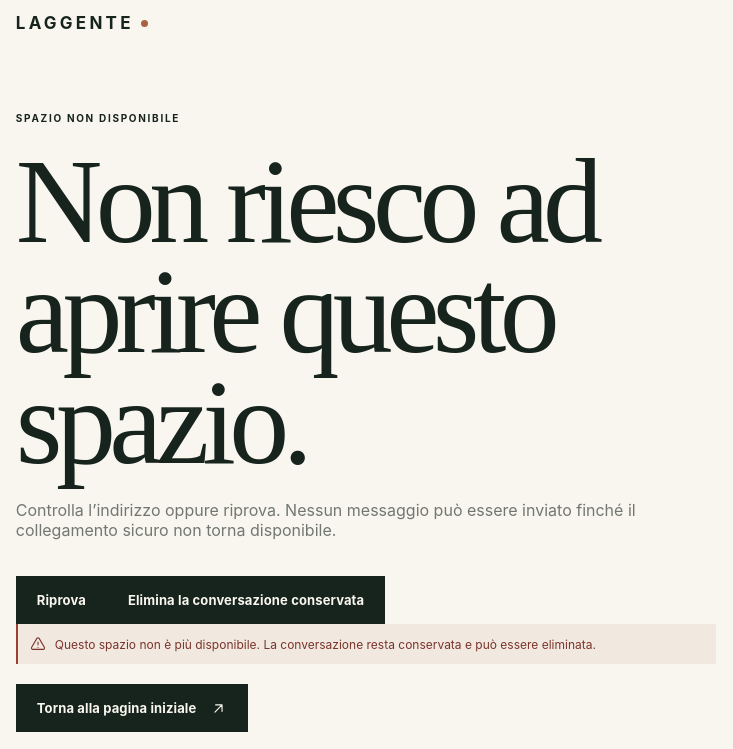
public space failure boundary › reports an inactive conversation deletion failure on the unavailable surface
Click the button "Elimina la conversazione conservata": point(246, 600) [107,576,385,624]
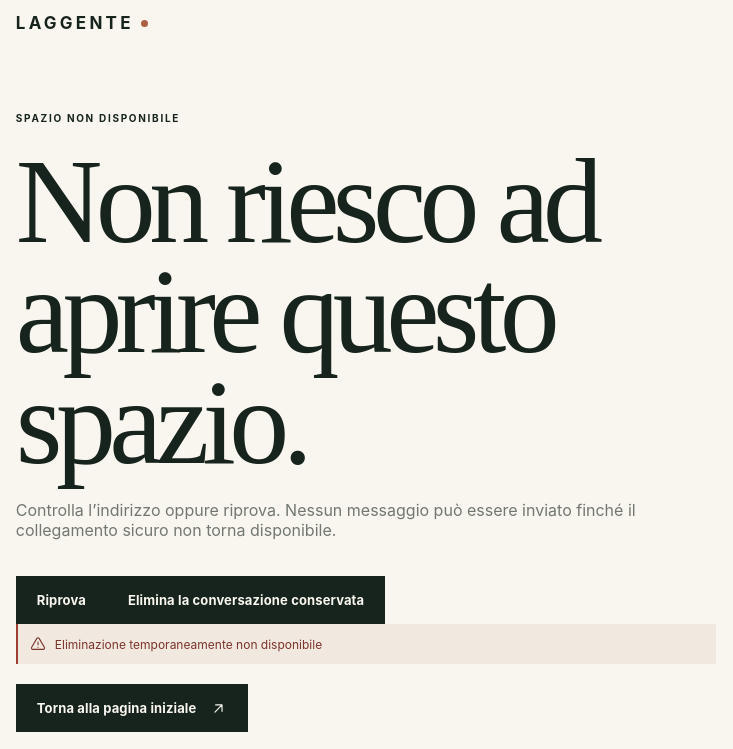
Expected: the text "Eliminazione temporaneamente non disponibile" is shown, [55,637,322,652]
